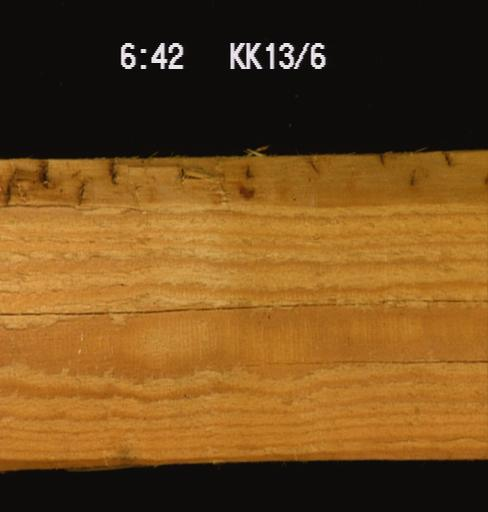split: (1, 276, 486, 332)
wave: (2, 152, 486, 210), (96, 436, 408, 469), (226, 353, 487, 376)
